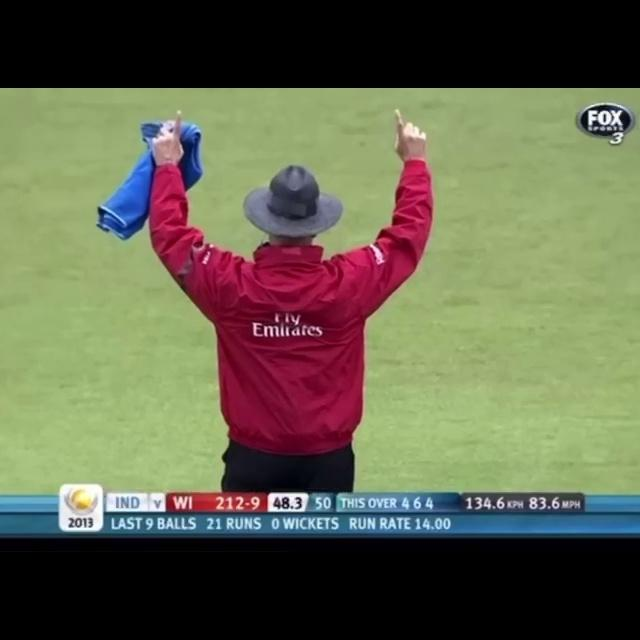umpire: (70, 107, 458, 474)
